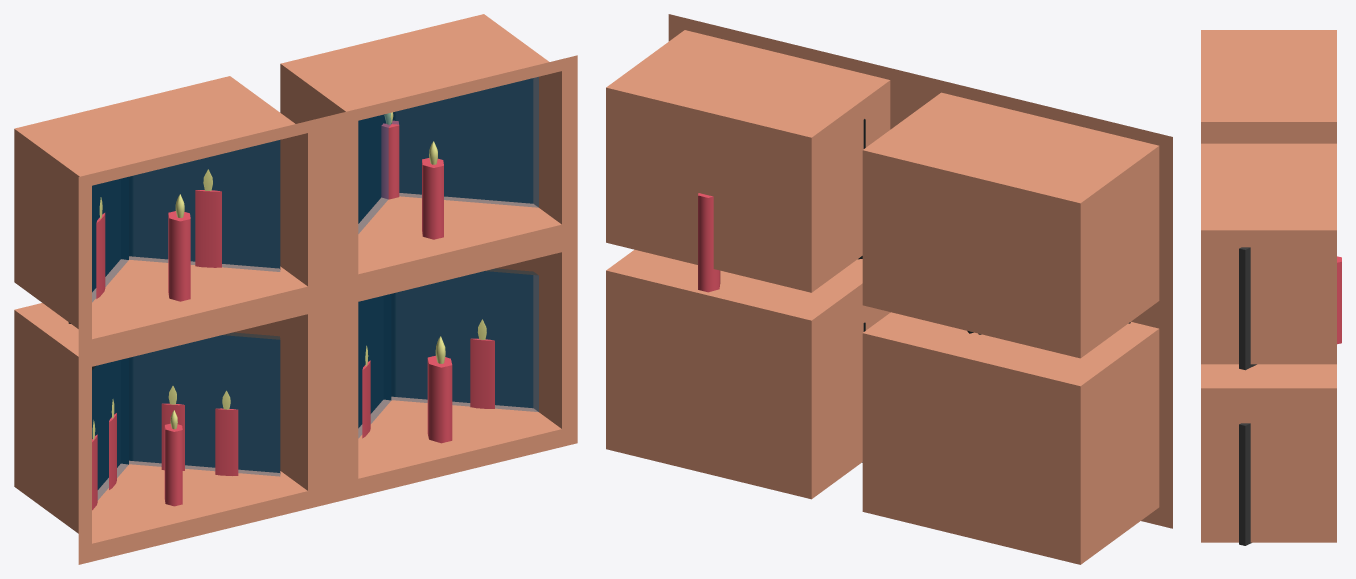
The model's file is level 6.fbx.
3 views of the same model, side by side, from view 1: azimuth 30°, elevation 25°; view 2: azimuth 150°, elevation 25°; view 3: azimuth 270°, elevation 25° (orthographic). The views are drawn at different scales.
Parts seen in each view (by area): view 1: box, candile_l3, candile_l4, candil_l1, candile_l2; view 2: box, candile_l2; view 3: box, candile_l2, candile_l4.
Boxes of the visible parts, x1=… form: box: x1=14, y1=14, x2=577, y2=564; candile_l3: x1=92, y1=332, x2=280, y2=510; candile_l4: x1=358, y1=268, x2=538, y2=443; candil_l1: x1=68, y1=140, x2=280, y2=323; candile_l2: x1=358, y1=77, x2=538, y2=239; box: x1=606, y1=14, x2=1172, y2=564; candile_l2: x1=698, y1=119, x2=865, y2=292; box: x1=1201, y1=30, x2=1336, y2=542; candile_l2: x1=1239, y1=247, x2=1341, y2=370; candile_l4: x1=1239, y1=423, x2=1251, y2=545.
Size of the model in its own units: 1217 by 904 by 341.
Materials: 2 (1 with a texture image).
